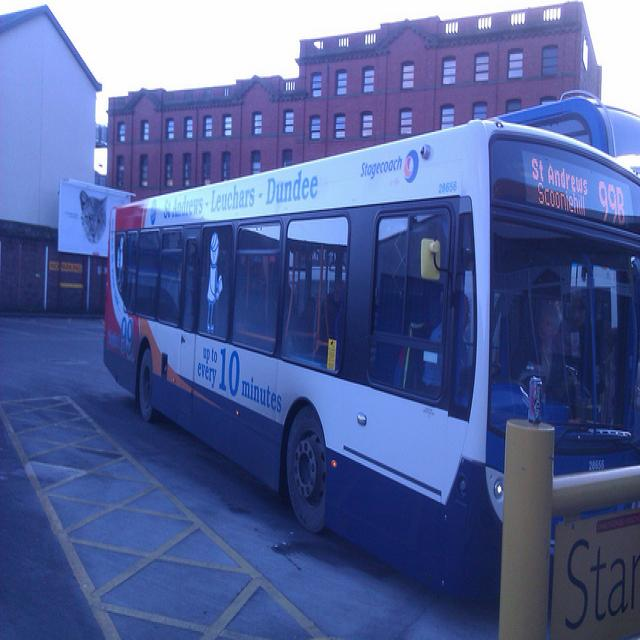Vehicle: (103, 118, 638, 613), (501, 98, 640, 180)
